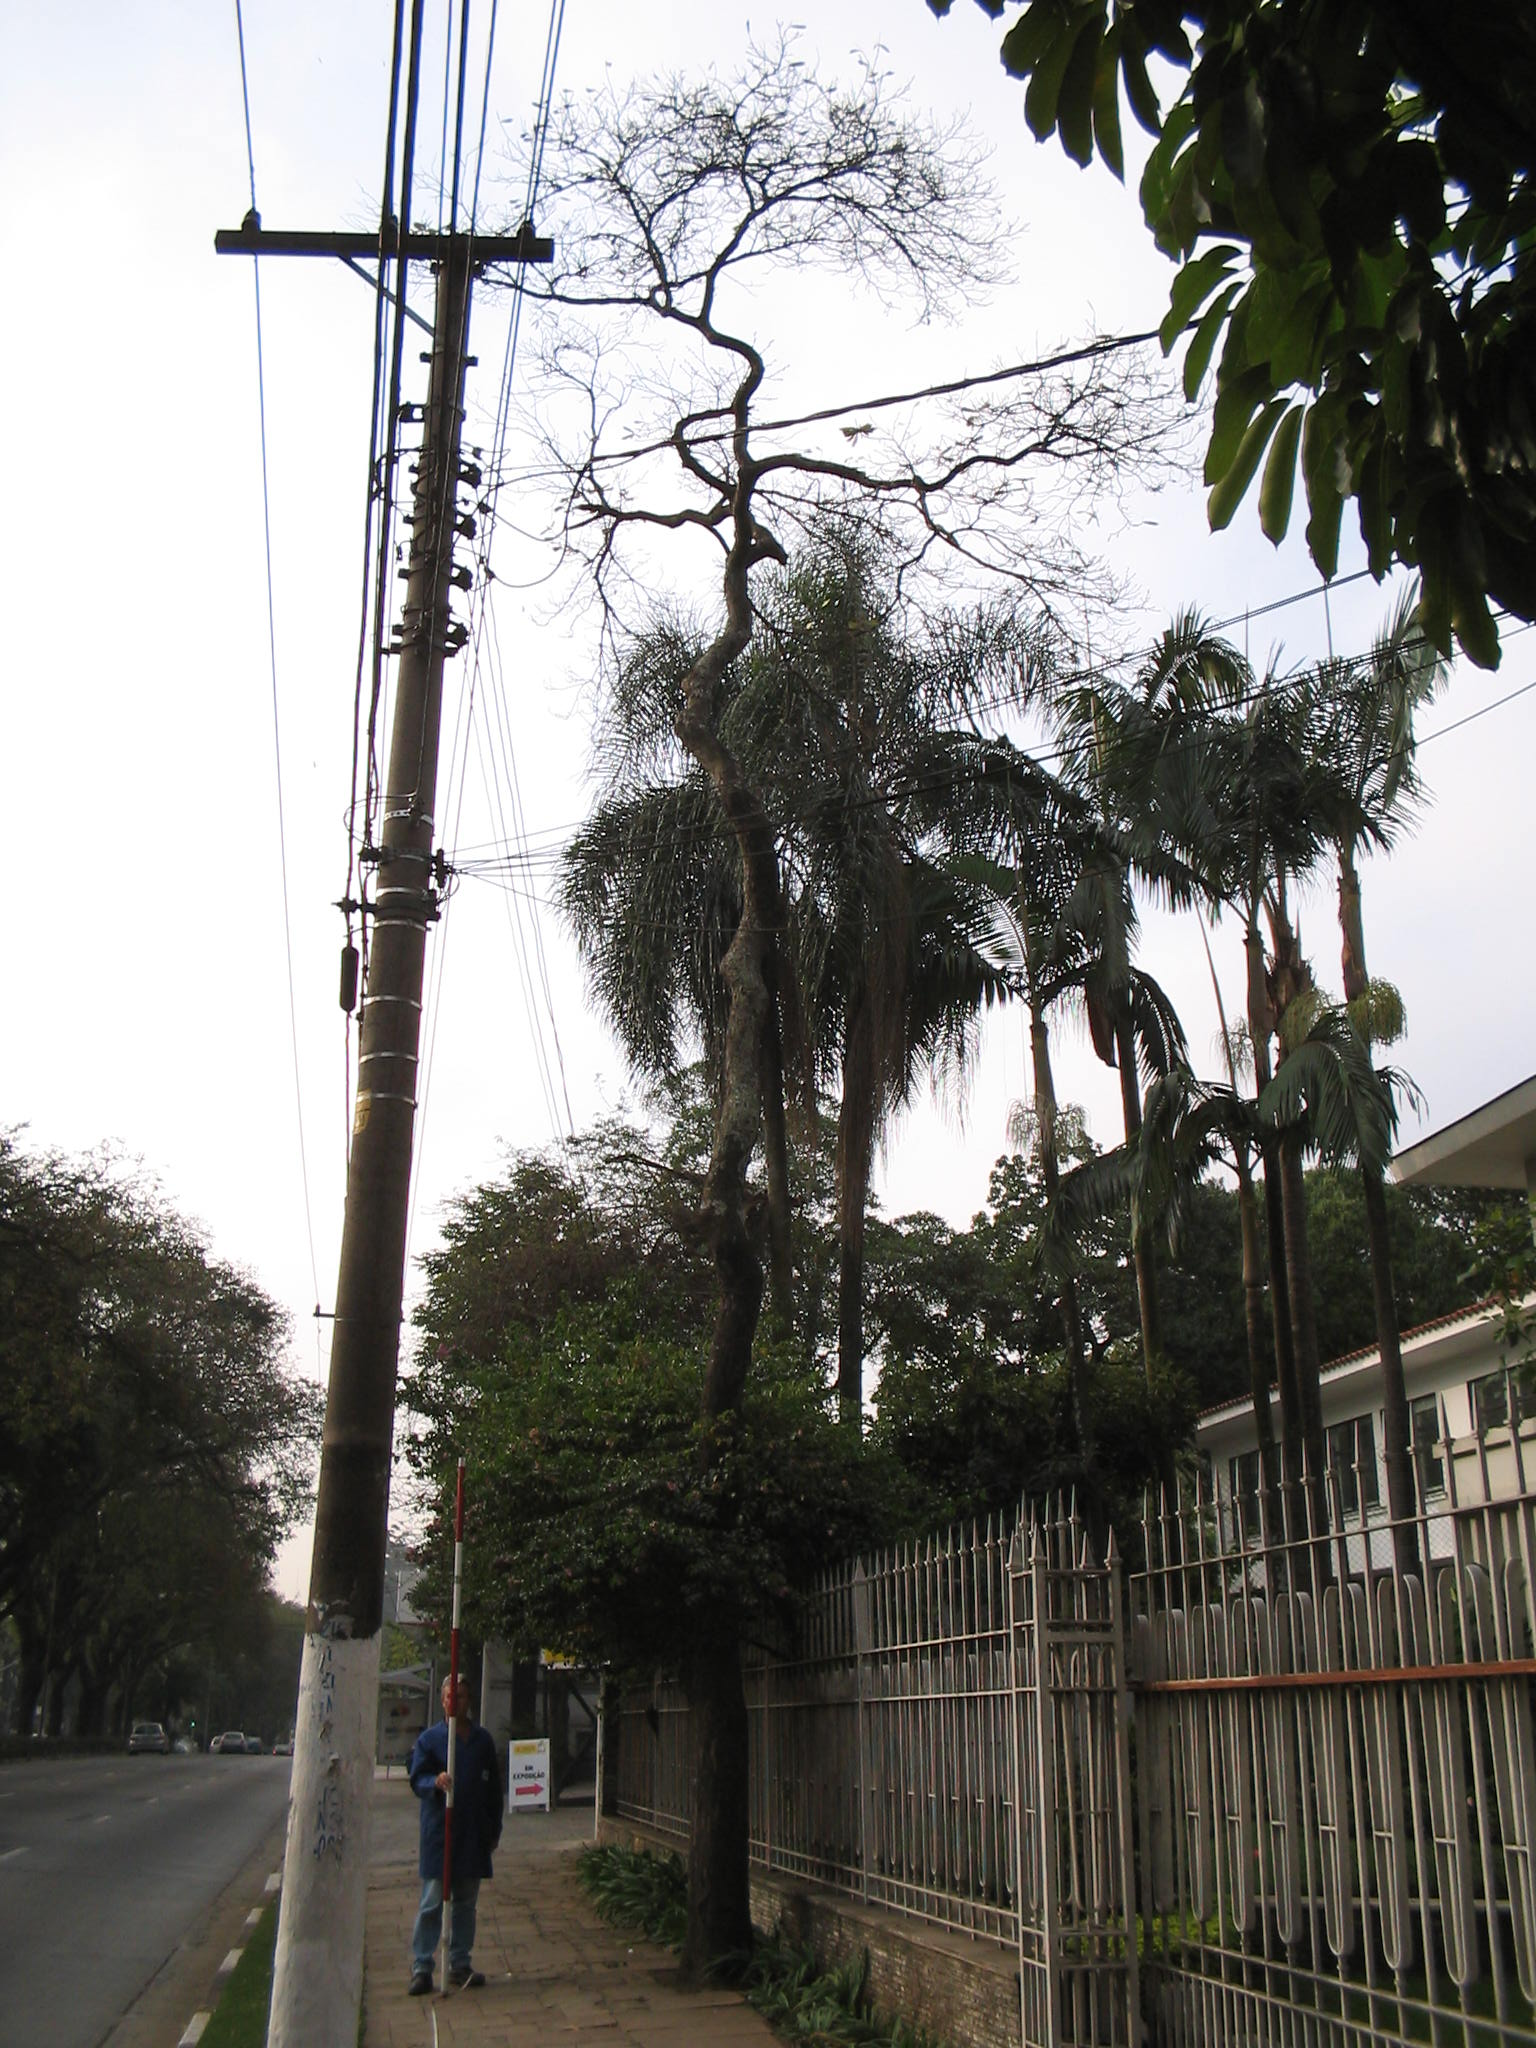stem: (607, 584, 878, 1982)
stick: (415, 1455, 495, 1993)
tree: (419, 40, 1178, 1987)
